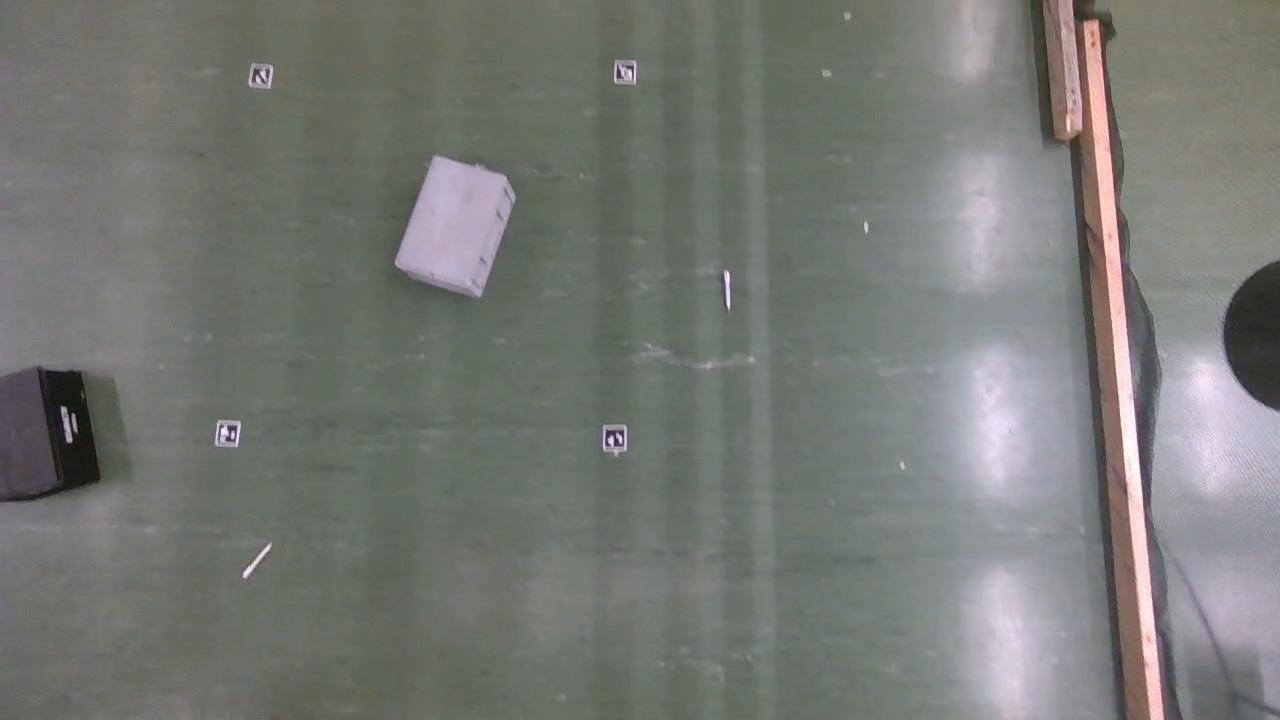probes: (241, 542, 270, 579), (722, 269, 730, 311)
rako: (392, 155, 518, 301), (0, 367, 101, 502)
